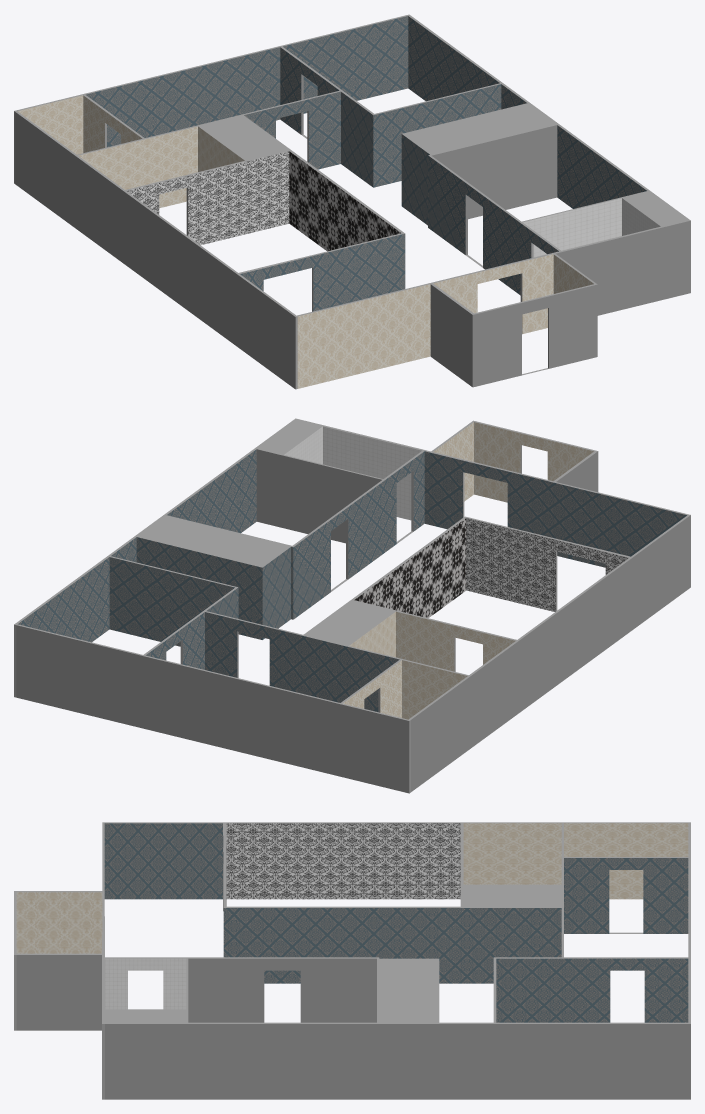
File: paredes1andar.fbx
3 views of the same model, one above another, from view 1: azimuth 30°, elevation 25°; view 2: azimuth 150°, elevation 25°; view 3: azimuth 270°, elevation 25° (orthographic). The views are drawn at different scales.
Parts seen in each view (by area): view 1: parede andar1; view 2: parede andar1; view 3: parede andar1.
Part boxes in pixels (x1=…): parede andar1: x1=14, y1=14, x2=690, y2=389; parede andar1: x1=14, y1=418, x2=690, y2=793; parede andar1: x1=14, y1=822, x2=690, y2=1099.
Size of the model in its own units: 16.57 by 2.9 by 23.5.
7 materials, 5 textured.
